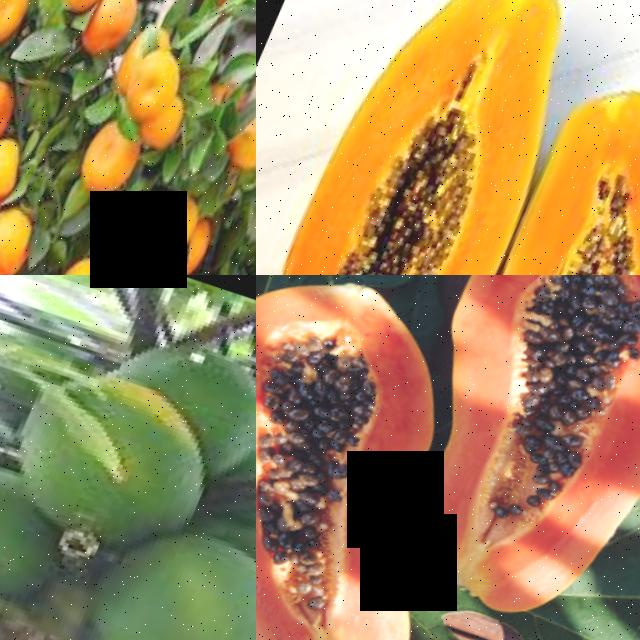orange: (116, 40, 198, 134), (75, 120, 153, 203), (151, 185, 214, 264), (79, 0, 151, 61), (0, 202, 48, 275), (0, 0, 42, 51), (59, 248, 130, 275), (0, 73, 24, 152), (233, 108, 256, 175), (58, 0, 133, 19)
pawpaw: (256, 0, 615, 275), (387, 275, 640, 627), (256, 275, 489, 640), (399, 59, 640, 275), (0, 349, 232, 559), (70, 515, 256, 640), (0, 443, 86, 625)
